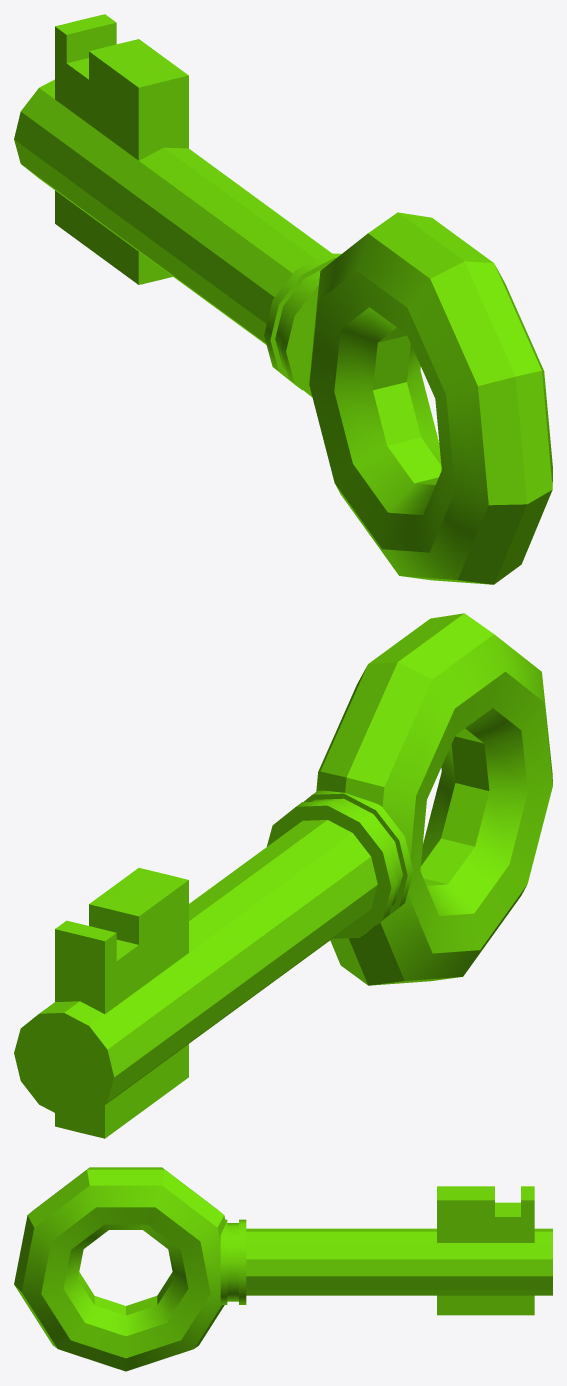
File: LLave_1.fbx
3 renders of one model, top to bottom at view 1: azimuth 30°, elevation 25°; view 2: azimuth 150°, elevation 25°; view 3: azimuth 270°, elevation 25°, orthographic. The views are drawn at different scales.
Parts seen in each view (by area): view 1: Deco_1, Llave_1, Junta_1; view 2: Deco_1, Llave_1, Junta_1; view 3: Deco_1, Llave_1, Junta_1.
Part boxes in pixels (box(x1,y1,x2,y2)): Deco_1: box(309, 212, 552, 584); Llave_1: box(14, 14, 331, 344); Junta_1: box(264, 253, 341, 397); Deco_1: box(316, 613, 552, 985); Llave_1: box(14, 820, 377, 1138); Junta_1: box(266, 790, 413, 938); Deco_1: box(14, 1167, 225, 1371); Llave_1: box(246, 1186, 552, 1315); Junta_1: box(220, 1219, 246, 1304).
Size of the model in its own units: 64.03 by 165 by 403.
